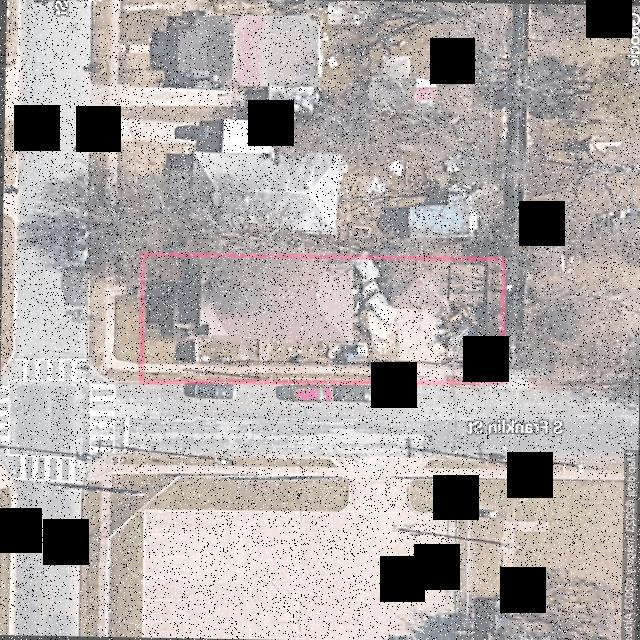Driveway: (353, 261, 449, 379)
Extra Lawn: (112, 296, 138, 363), (87, 269, 104, 368), (100, 368, 137, 380)
Extra Sidewalk: (95, 260, 138, 374)
House: (199, 257, 352, 341)
Other: (374, 260, 486, 306)
Sidewalk: (445, 260, 501, 379), (143, 361, 400, 374)
